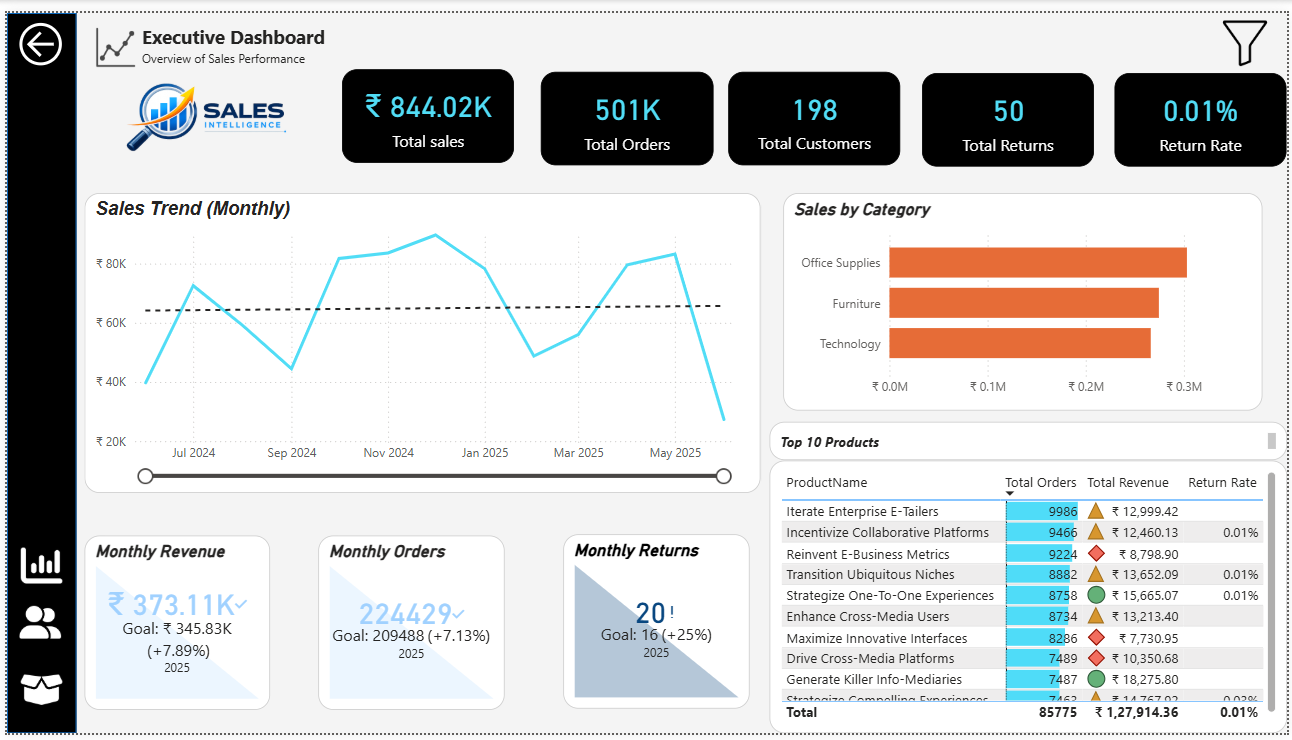

The page's visual inventory and layout, read from the dashboard file:
{"tool":"powerbi","page":{"name":"Dashboard","canvas":[1280,720],"ordinal":0},"visuals":[{"type":"shape","box":[0,0,69.5,720.3],"z":0},{"type":"card","fields":{"Values":["Measure.Total Orders"]},"box":[533.8,58.8,172.5,93.8],"z":1000},{"type":"card","fields":{"Values":["Measure.Total Customers"]},"box":[721.1,58.9,172.2,93.3],"z":2000},{"type":"card","fields":{"Values":["Measure.Total Returns"]},"box":[914.7,59.9,171.9,93.8],"z":3000},{"type":"card","fields":{"Values":["Measure.Return Rate"]},"box":[1108,59.9,171.9,93.8],"z":4000},{"type":"card","fields":{"Values":["Measure.Total sales"]},"box":[334.4,56.7,172.2,93.3],"z":5000},{"type":"lineChart","title":"Sales  Trend (Monthly)","fields":{"Category":["Date_Dim.Start of Month.Variation.Date Hierarchy.Year","Date_Dim.Start of Month.Variation.Date Hierarchy.Quarter","Date_Dim.Start of Month.Variation.Date Hierarchy.Month","Date_Dim.Start of Month.Variation.Date Hierarchy.Day"],"Y":["Measure.Total sales"]},"box":[77.5,180,676.2,300],"z":6000},{"type":"clusteredBarChart","title":"Sales by Category","fields":{"Category":["Product_Dim.Category"],"Y":["Measure.Total sales"]},"box":[776.7,179.5,479.5,217.8],"z":7000},{"type":"tableEx","fields":{"Values":["Product_Dim.ProductName","Measure.Total Orders","Measure.Total Revenue","Measure.Return Rate"]},"box":[762.5,447.5,517.5,272.5],"z":8000},{"type":"kpi","title":"Monthly Revenue","fields":{"Goal":["Measure.Previous Month Revenue"],"Indicator":["Measure.Total Revenue"],"TrendLine":["Date_Dim.Date.Variation.Date Hierarchy.Year"]},"box":[77.8,522.2,185.6,174.4],"z":9000},{"type":"kpi","title":"Monthly Orders","fields":{"Goal":["Measure.Previous Month Orders"],"Indicator":["Measure.Total Orders"],"TrendLine":["Date_Dim.Date.Variation.Date Hierarchy.Year"]},"box":[311.1,522.2,186.7,174.4],"z":10000},{"type":"kpi","title":"Monthly Returns","fields":{"Goal":["Measure.Previous Month Returns"],"Indicator":["Measure.Total Returns"],"TrendLine":["Date_Dim.Date.Variation.Date Hierarchy.Year"]},"box":[556.7,521.1,186.7,174.4],"z":11000},{"type":"image","box":[0,31.1,394.4,147.8],"z":12000},{"type":"textbox","box":[762.5,408.8,517.5,38.8],"z":13000},{"type":"image","box":[14.3,657.1,41.4,38.6],"z":14000},{"type":"image","box":[12.9,590.7,41.4,35.7],"z":15000},{"type":"image","box":[14.3,534.3,41.4,37.1],"z":16000},{"type":"actionButton","box":[6.8,4.1,54.8,54.8],"z":17000},{"type":"image","box":[1208.6,7.1,58.6,45.7],"z":18000},{"type":"textbox","box":[130.1,6.8,304.1,52.1],"z":19000},{"type":"image","box":[87.7,9.6,42.5,49.3],"z":20000}]}

Visuals, with their boxes in screenshot pixels (x1, y1, x2, y2), scaled from the page's 1280x720 canvas onto the 1292x740 screenshot:
shape: [0,0,70,739]
card - Measure.Total Orders: [539,60,713,157]
card - Measure.Total Customers: [728,61,902,156]
card - Measure.Total Returns: [923,62,1097,158]
card - Measure.Return Rate: [1118,62,1291,158]
card - Measure.Total sales: [338,58,511,154]
"Sales  Trend (Monthly)" lineChart: [78,185,761,493]
"Sales by Category" clusteredBarChart: [784,184,1268,408]
tableEx - Product_Dim.ProductName x Measure.Total Orders: [770,460,1291,739]
"Monthly Revenue" kpi: [79,537,266,716]
"Monthly Orders" kpi: [314,537,502,716]
"Monthly Returns" kpi: [562,536,750,715]
image: [0,32,398,184]
textbox: [770,420,1291,460]
image: [14,675,56,715]
image: [13,607,55,644]
image: [14,549,56,587]
actionButton: [7,4,62,61]
image: [1220,7,1279,54]
textbox: [131,7,438,61]
image: [89,10,131,61]
